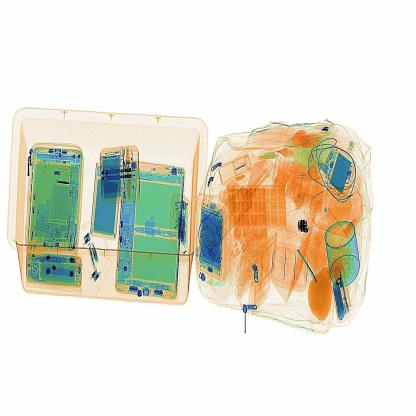scissors: (294, 215, 309, 238)
